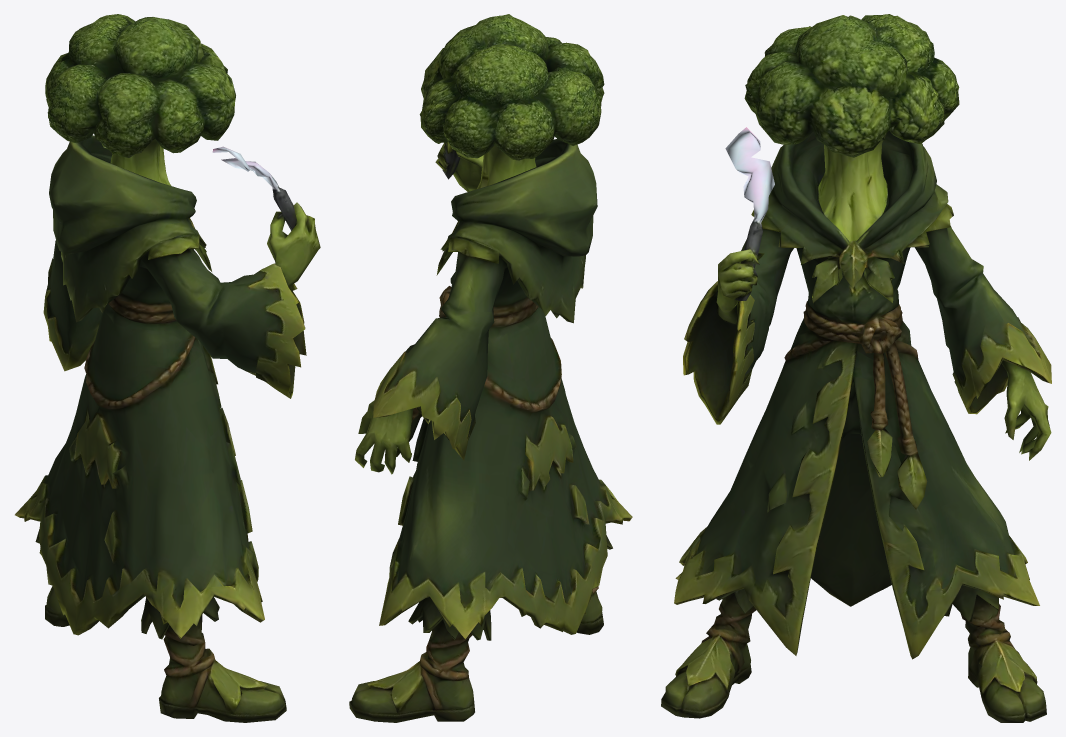
The model's file is stage1.glb.
The picture shows the model from 3 angles, left to right: view 1: azimuth 30°, elevation 25°; view 2: azimuth 150°, elevation 25°; view 3: azimuth 270°, elevation 25°; orthographic projection. The views are drawn at different scales.
Visible parts, largest first — view 1: tripo_node_b83562f1-864f-4efc-9f38-2c189aa1efb7; view 2: tripo_node_b83562f1-864f-4efc-9f38-2c189aa1efb7; view 3: tripo_node_b83562f1-864f-4efc-9f38-2c189aa1efb7.
Part boxes in pixels (x1=…): tripo_node_b83562f1-864f-4efc-9f38-2c189aa1efb7: x1=15, y1=14, x2=320, y2=722; tripo_node_b83562f1-864f-4efc-9f38-2c189aa1efb7: x1=349, y1=14, x2=632, y2=722; tripo_node_b83562f1-864f-4efc-9f38-2c189aa1efb7: x1=661, y1=14, x2=1051, y2=722.
Bounding box in the file's own units: 0.344 × 1 × 0.5274.
1 material, 1 textured.
